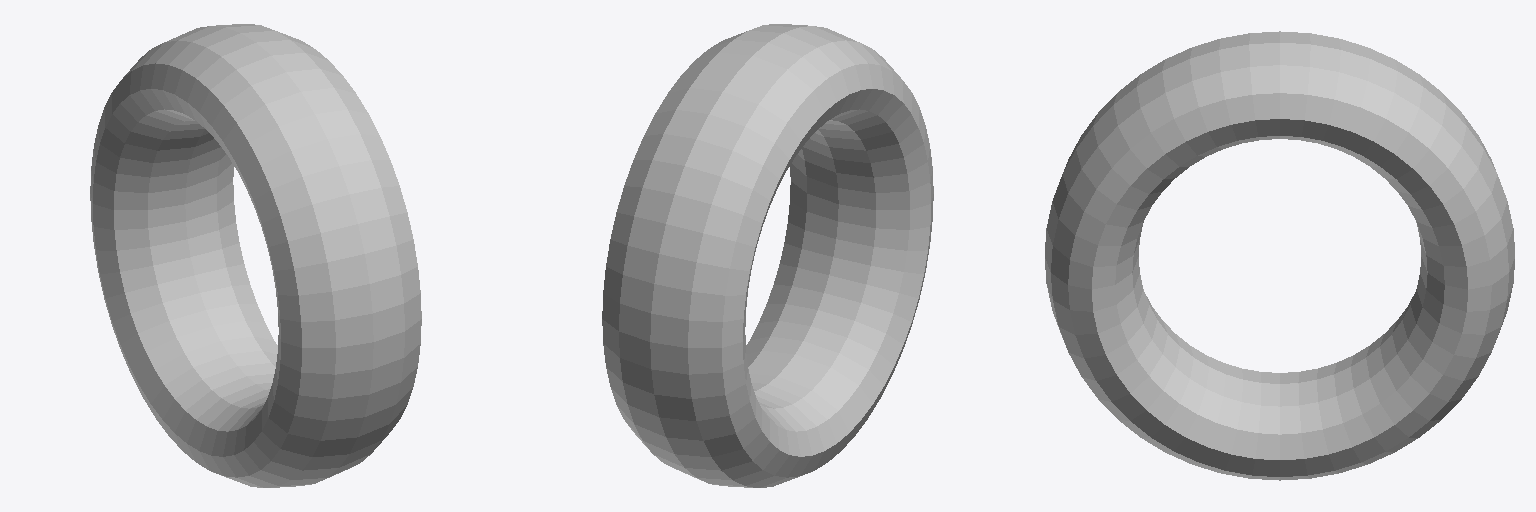
Rendered from planeLeftTire.obj.
3 views of the same model, side by side, from view 1: azimuth 30°, elevation 25°; view 2: azimuth 150°, elevation 25°; view 3: azimuth 270°, elevation 25° (orthographic).
Visible parts, largest first — view 1: Cylinder.069_Cylinder.002; view 2: Cylinder.069_Cylinder.002; view 3: Cylinder.069_Cylinder.002.
Part boxes in pixels (x1,y1,x2,y2): Cylinder.069_Cylinder.002: (90,24,421,487); Cylinder.069_Cylinder.002: (602,24,933,487); Cylinder.069_Cylinder.002: (1045,31,1514,480).
Size of the model in its own units: 42.31 by 125 by 125.